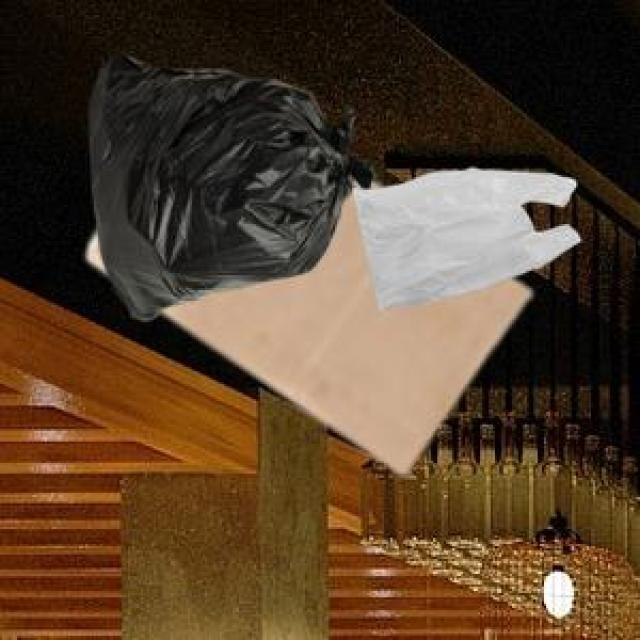miscellaneous trash: (85, 47, 376, 316)
paper: (83, 186, 527, 469)
